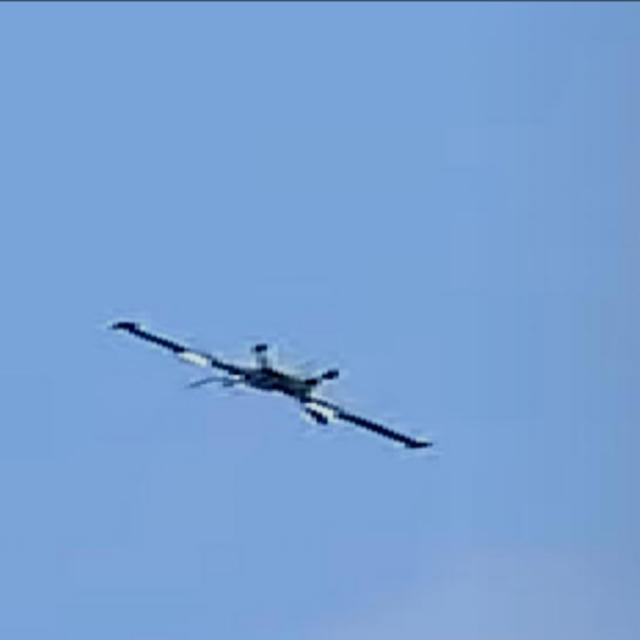plane: (101, 318, 434, 452)
